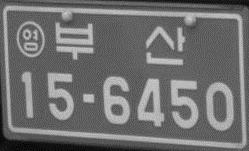-: (79, 90, 97, 105)
0: (205, 80, 235, 132)
1: (17, 70, 37, 120)
4: (135, 77, 167, 129)
5: (169, 76, 201, 130), (45, 70, 76, 121)
6: (101, 75, 130, 124)
부산_D: (53, 19, 186, 66)
영: (15, 20, 46, 58)
